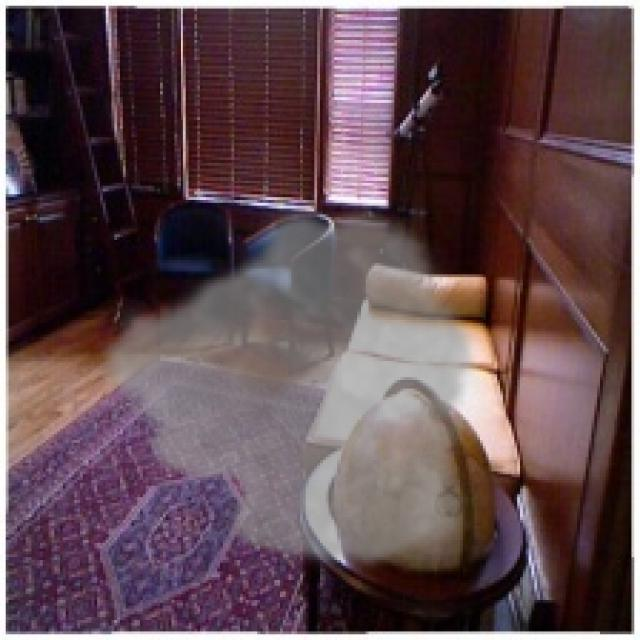Smoke: (91, 197, 480, 574)
